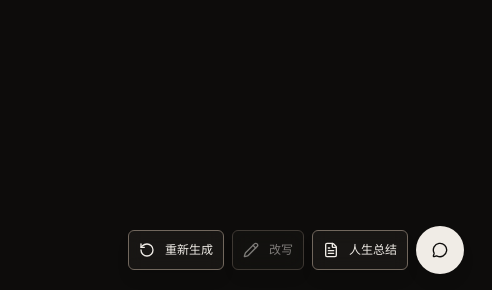
ChatBar › Chat functionality › displays user message in chat history
The width and height of the screenshot is (492, 290).
Click the button named "打开聊天": point(440, 250) [416,226,464,274]
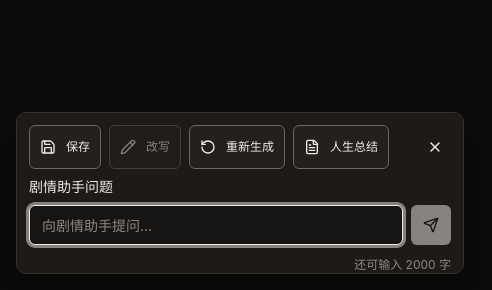
Expected: the field with placeholder "向剧情助手提问..." is shown
In the field with placeholder "向剧情助手提问...": point(216, 225) [29,205,403,245], type "Test message"
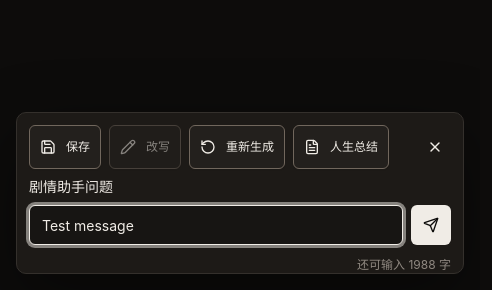
Press Enter in the field with placeholder "向剧情助手提问...", box [29,205,403,245]
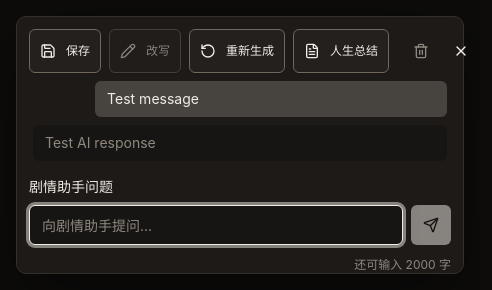
Expected: the text "Test message" is shown, [95,81,447,117]
